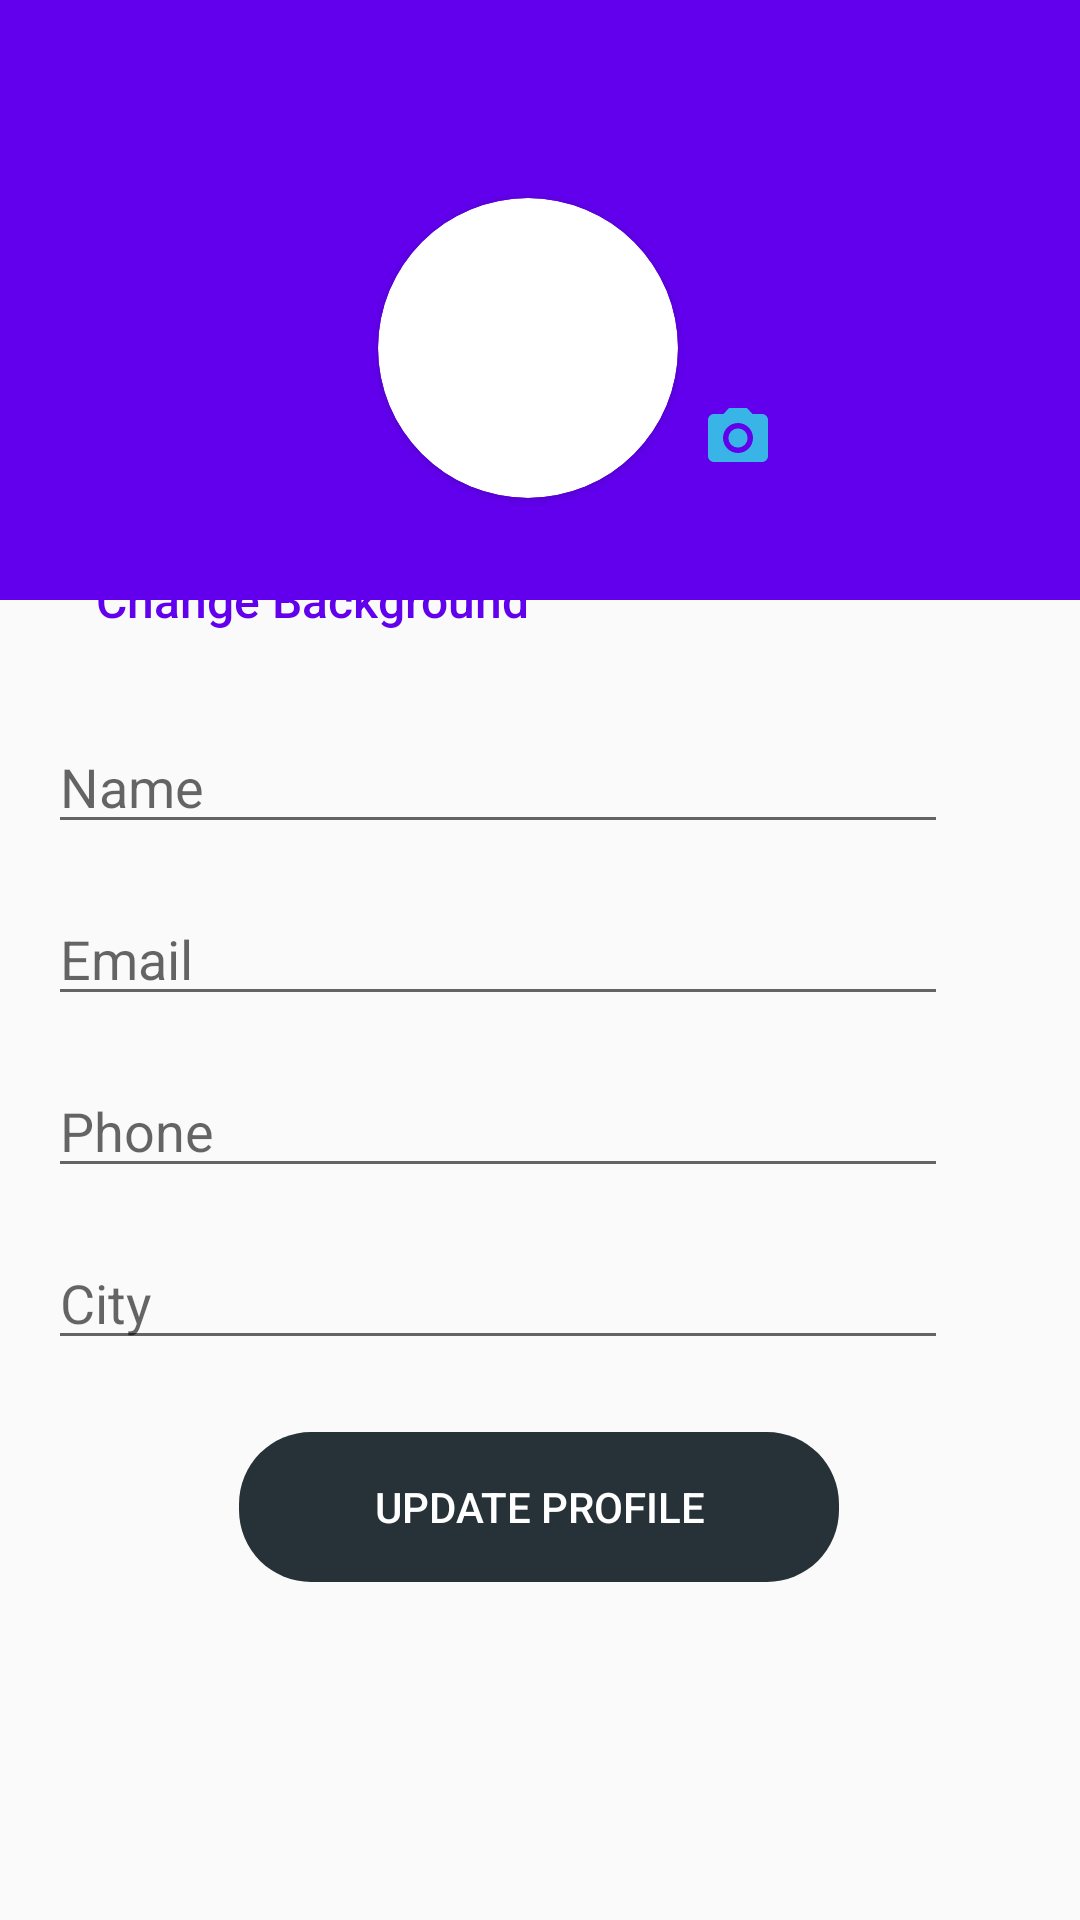

Where icons sit on this 1080 x 1920 app screen, as [x1=x1, y1=y1, x2=x2, y2=y2]:
camera: [x1=708, y1=408, x2=768, y2=462]
